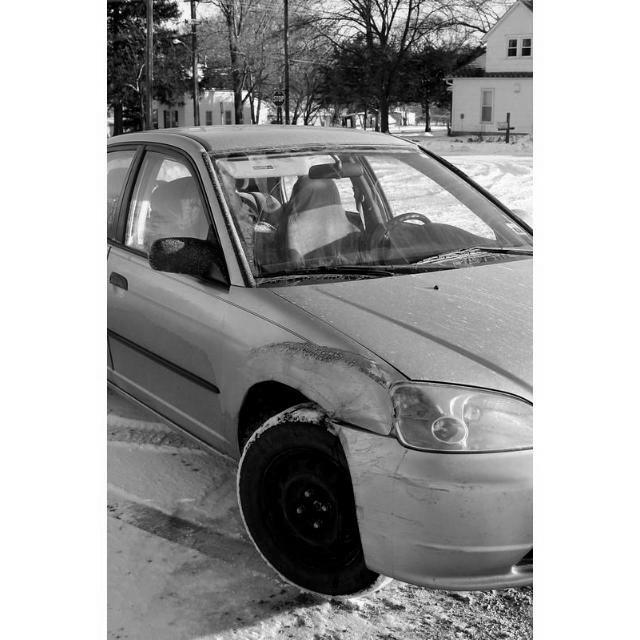fender-dent: (217, 300, 394, 431)
